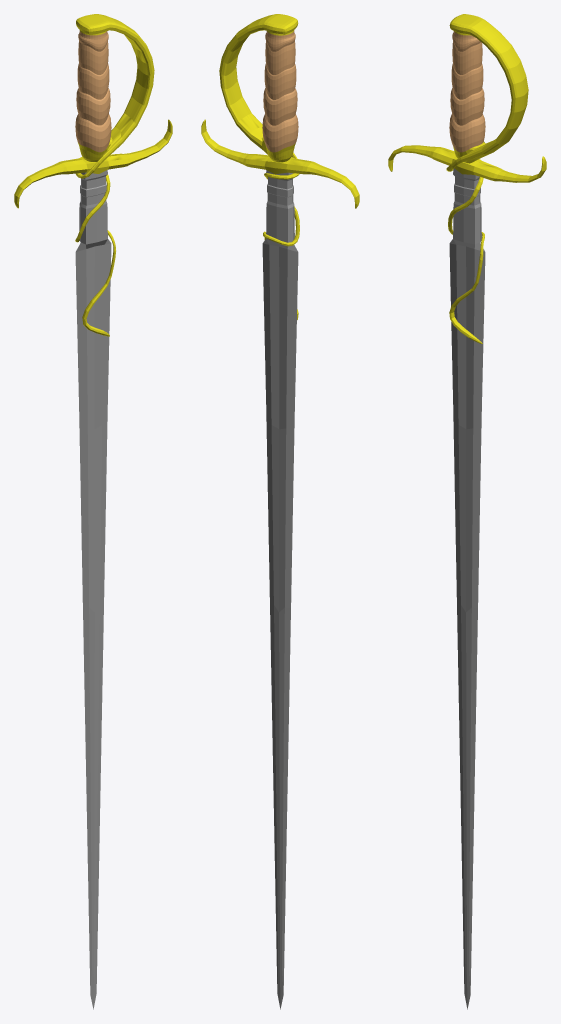
The model's file is BossWeapon.fbx.
3 renders of one model, left to right at view 1: azimuth 30°, elevation 25°; view 2: azimuth 150°, elevation 25°; view 3: azimuth 330°, elevation 25°, orthographic.
Visible parts, largest first — view 1: Blade.001; view 2: Blade.001; view 3: Blade.001.
Boxes of the visible parts, bbox=[...] form: Blade.001: bbox=[14, 14, 172, 1009]; Blade.001: bbox=[201, 14, 359, 1009]; Blade.001: bbox=[388, 14, 546, 1009].
Size of the model in its own units: 483 by 2920 by 96.75.
